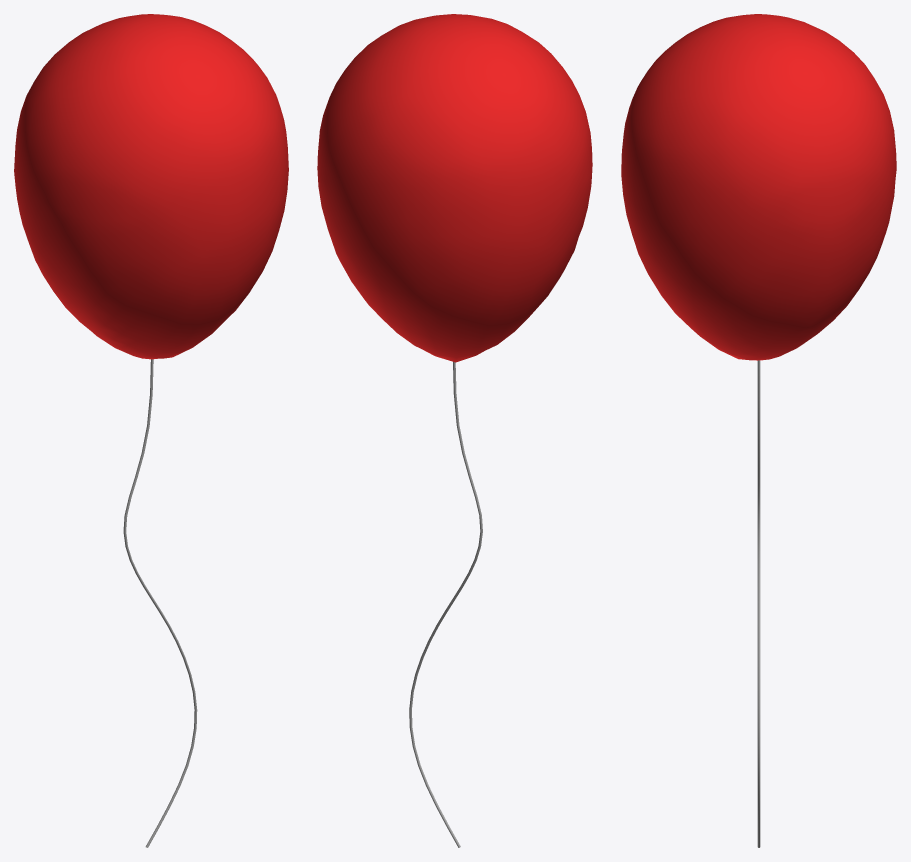
File: Balloon.fbx
3 renders of one model, left to right at view 1: azimuth 30°, elevation 25°; view 2: azimuth 150°, elevation 25°; view 3: azimuth 270°, elevation 25°, orthographic.
Visible parts, largest first — view 1: pPlatonic1, polySurface1, polySurface2; view 2: pPlatonic1, polySurface1, polySurface2; view 3: pPlatonic1, polySurface1, polySurface2.
Part boxes in pixels (<box>): pPlatonic1: <box>14,14,288,359</box>; polySurface1: <box>123,359,191,675</box>; polySurface2: <box>145,675,197,847</box>; pPlatonic1: <box>317,14,592,362</box>; polySurface1: <box>415,362,482,674</box>; polySurface2: <box>409,674,460,847</box>; pPlatonic1: <box>621,14,896,360</box>; polySurface1: <box>757,360,760,705</box>; polySurface2: <box>757,705,760,847</box>.
Bounding box in the file's own units: 2.02 × 6.66 × 2.02.
